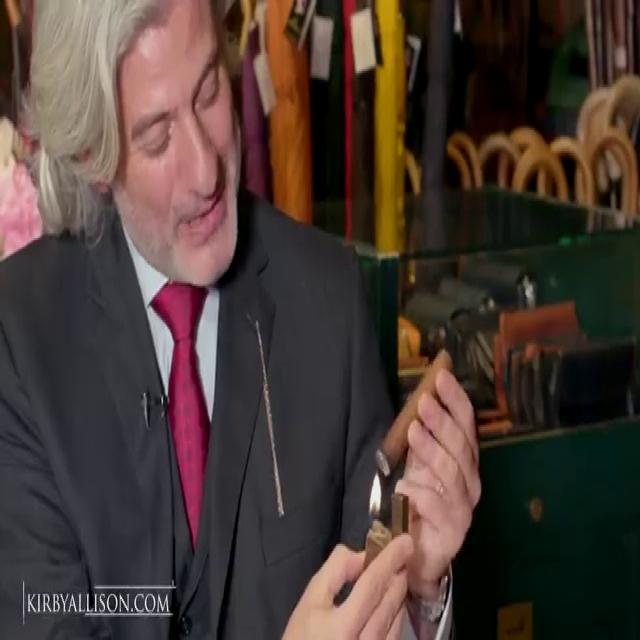Smooking: (358, 341, 468, 464)
